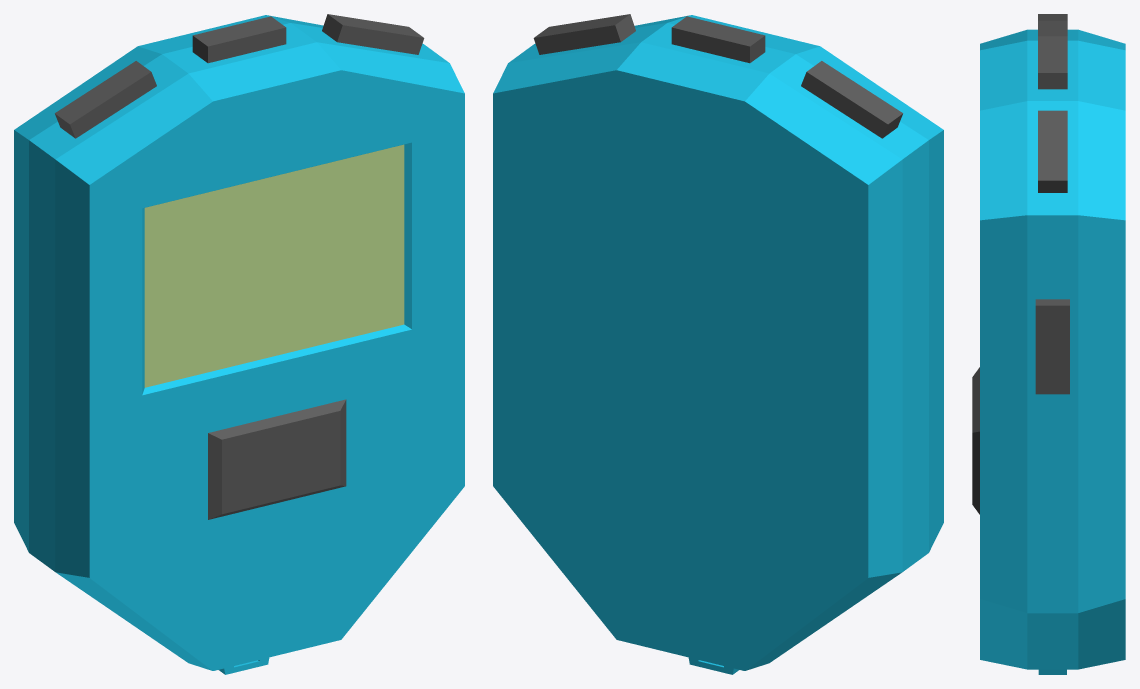
File: timer-by-poly-by-google-0J1_OKm87pR.glb
The picture shows the model from 3 angles, left to right: view 1: azimuth 30°, elevation 25°; view 2: azimuth 150°, elevation 25°; view 3: azimuth 270°, elevation 25°; orthographic projection. The views are drawn at different scales.
Visible parts, largest first — view 1: Cube.025_Cube.024; view 2: Cube.025_Cube.024; view 3: Cube.025_Cube.024.
Boxes of the visible parts, left/top/right/bottom form: Cube.025_Cube.024: left=14, top=14, right=464, bottom=674; Cube.025_Cube.024: left=493, top=14, right=943, bottom=674; Cube.025_Cube.024: left=972, top=14, right=1125, bottom=674.
Size of the model in its own units: 6.87 by 10.18 by 2.31.
